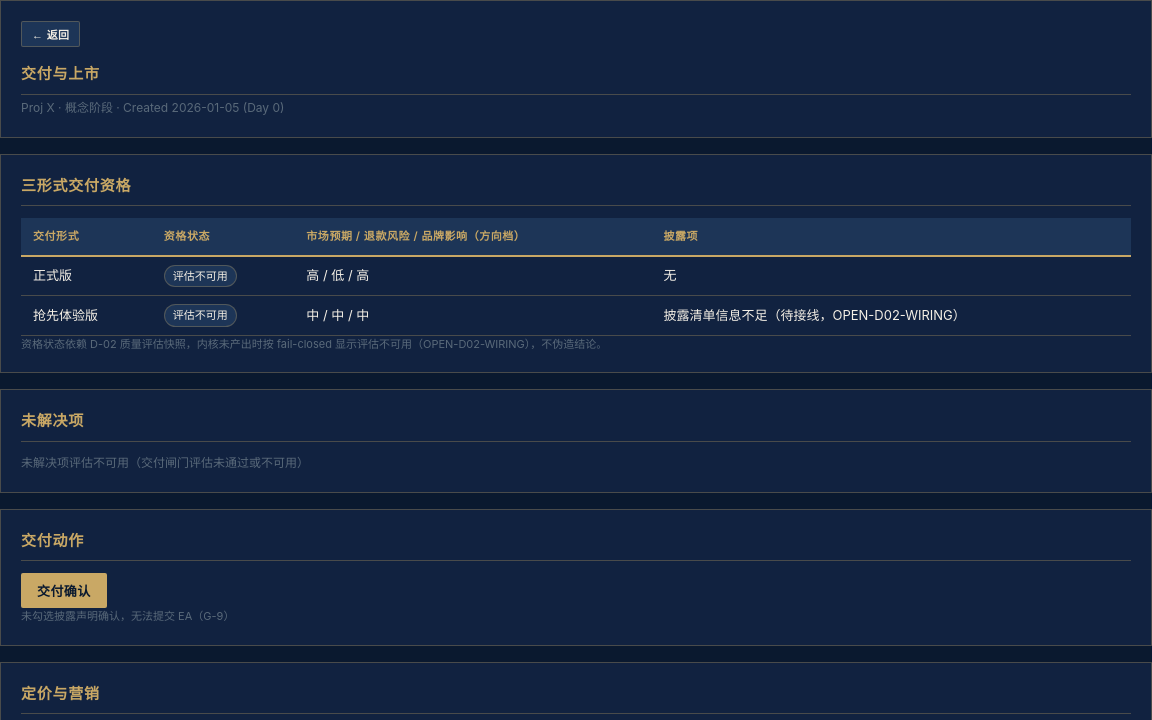
Scenario: P-09 交付与上市页（批次 07B） › 07B-REV2 真点击 PASS：确认弹窗 → 真点击确认 → 内核提交被触发 → 上市 products 0→1
Later steps or results of the test are not shown.
Click the button with test id "deliver-submit-open" at (64, 590), box [21,573,107,608]
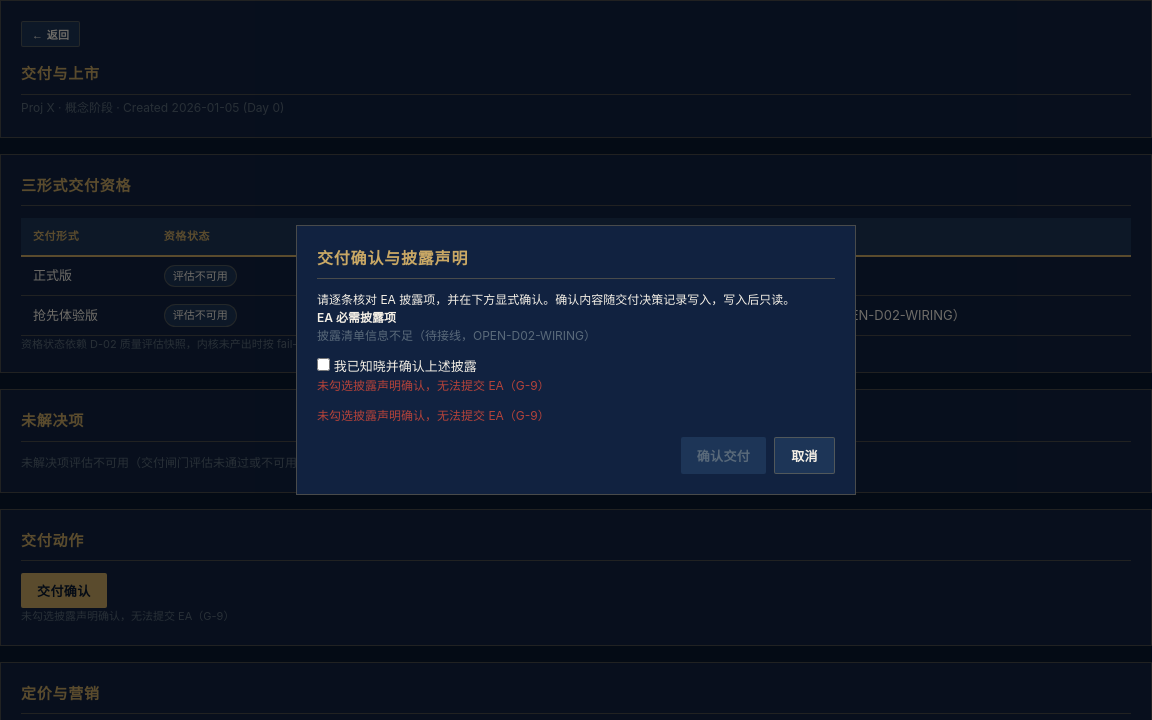
Click the checkbox with test id "deliver-disclosure-ack" at (324, 365), box [317,358,330,371]
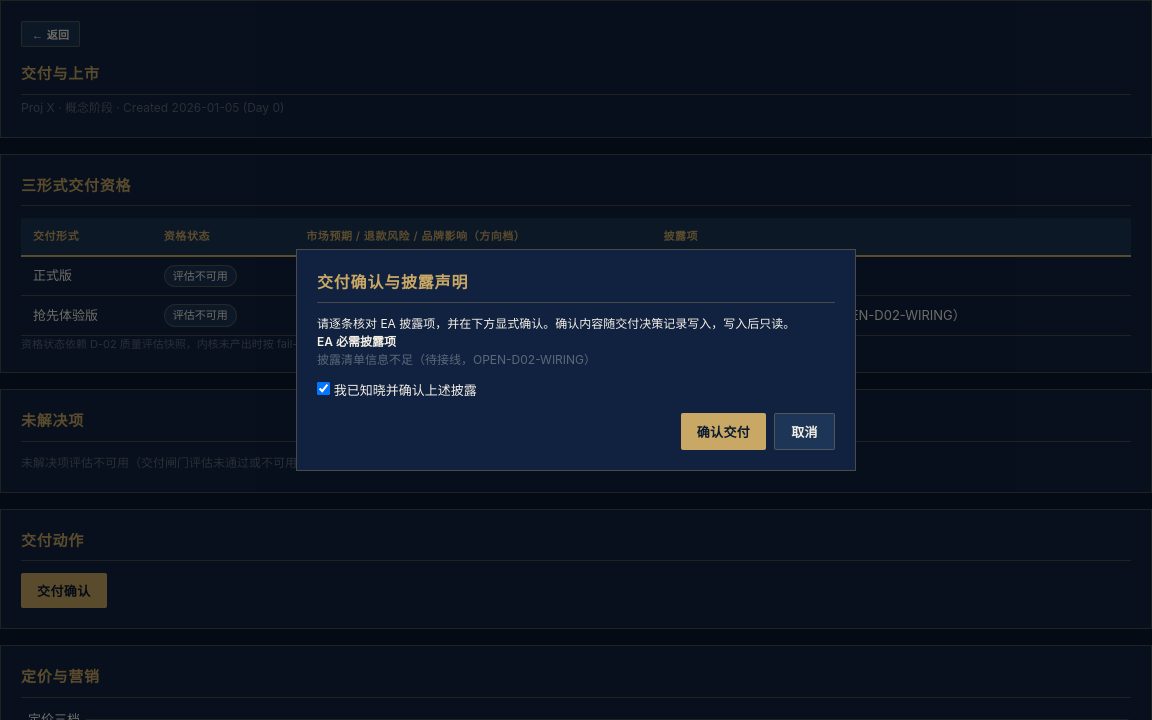
Check: the checkbox with test id "deliver-disclosure-ack" is checked, box [317,382,330,395]
Check: the button with test id "deliver-submit-confirm" is enabled, box [681,413,766,450]
